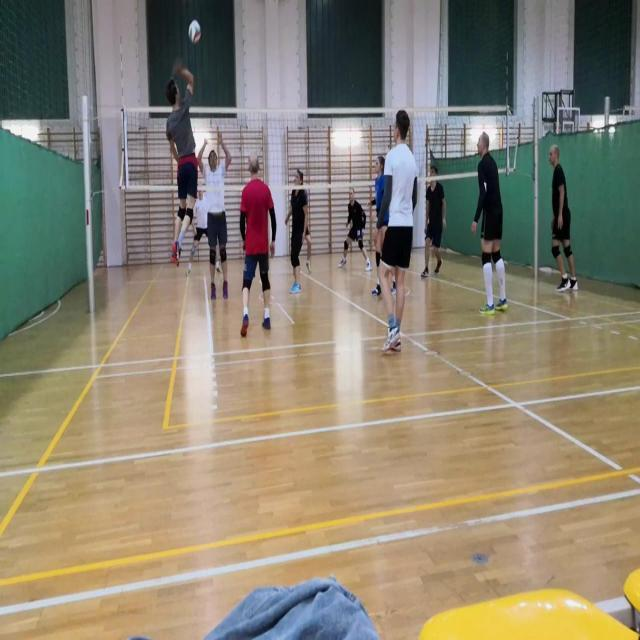volleyball: (188, 21, 202, 44)
